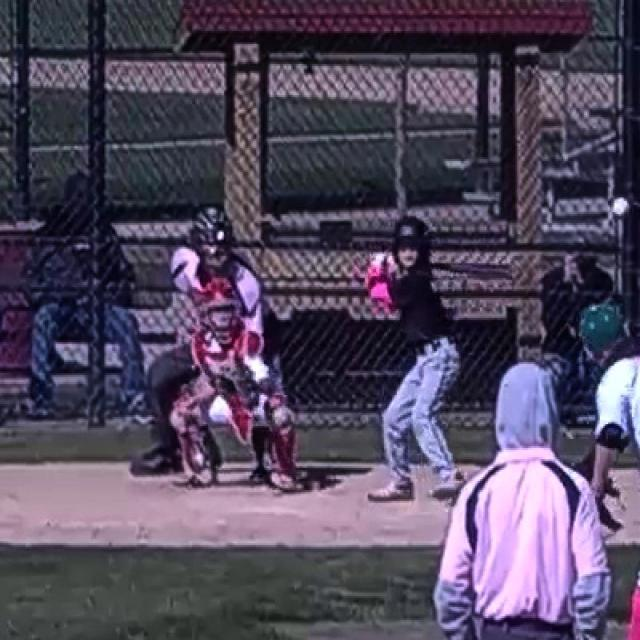baseball: (614, 200, 628, 213)
